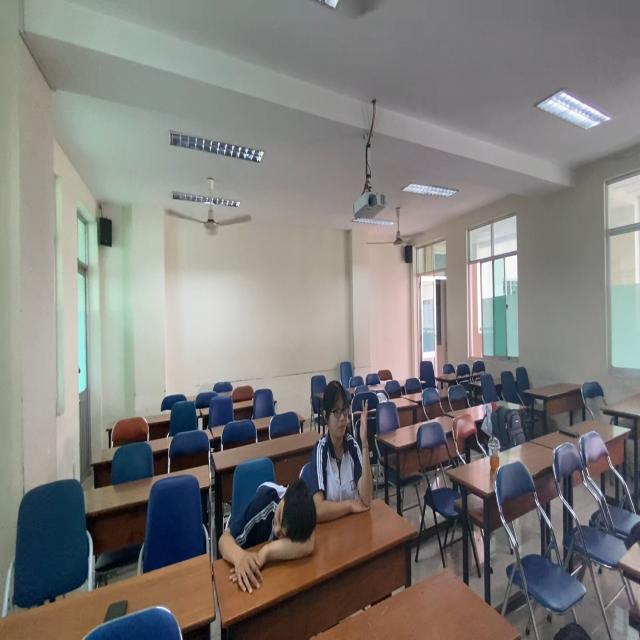raise_hand: (303, 377, 377, 523)
sleep: (208, 468, 332, 593)
